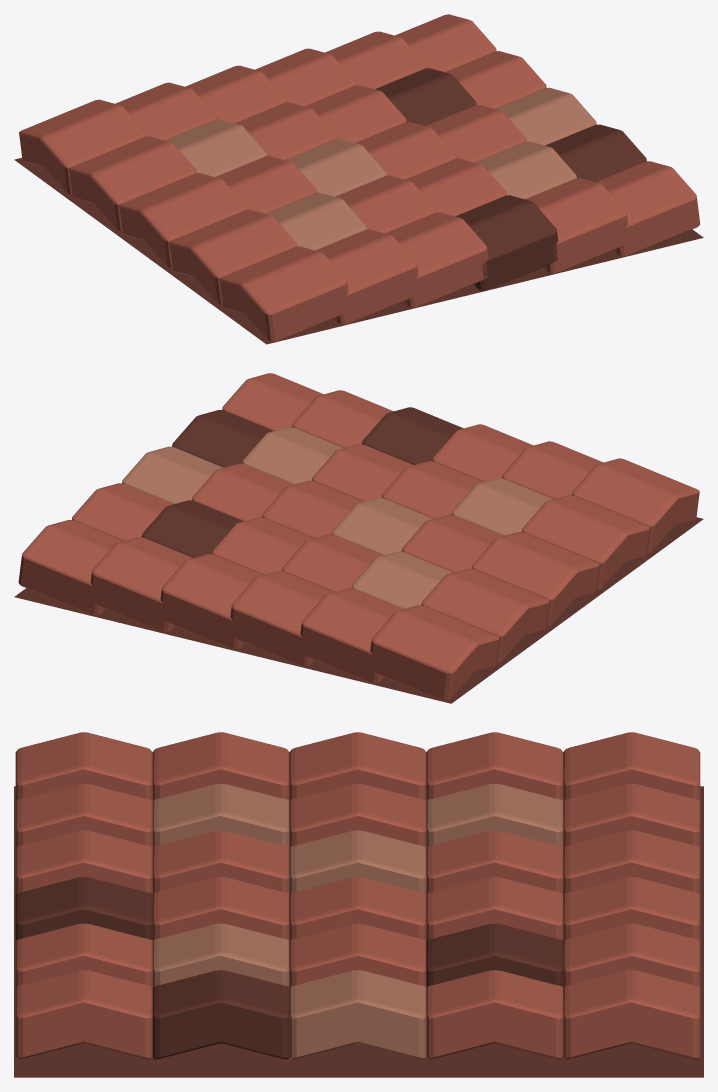
File: roof.fbx
The picture shows the model from 3 angles, top to bottom: view 1: azimuth 30°, elevation 25°; view 2: azimuth 150°, elevation 25°; view 3: azimuth 270°, elevation 25°; orthographic projection. The views are drawn at different scales.
Visible parts, largest first — view 1: Roof; view 2: Roof; view 3: Roof.
Part boxes in pixels (x1,y1,x2,y2): Roof: [14, 14, 703, 344]; Roof: [14, 373, 703, 703]; Roof: [14, 732, 703, 1077].
Size of the model in its own units: 200 by 23.63 by 200.
Materials: 1 (1 with a texture image).
